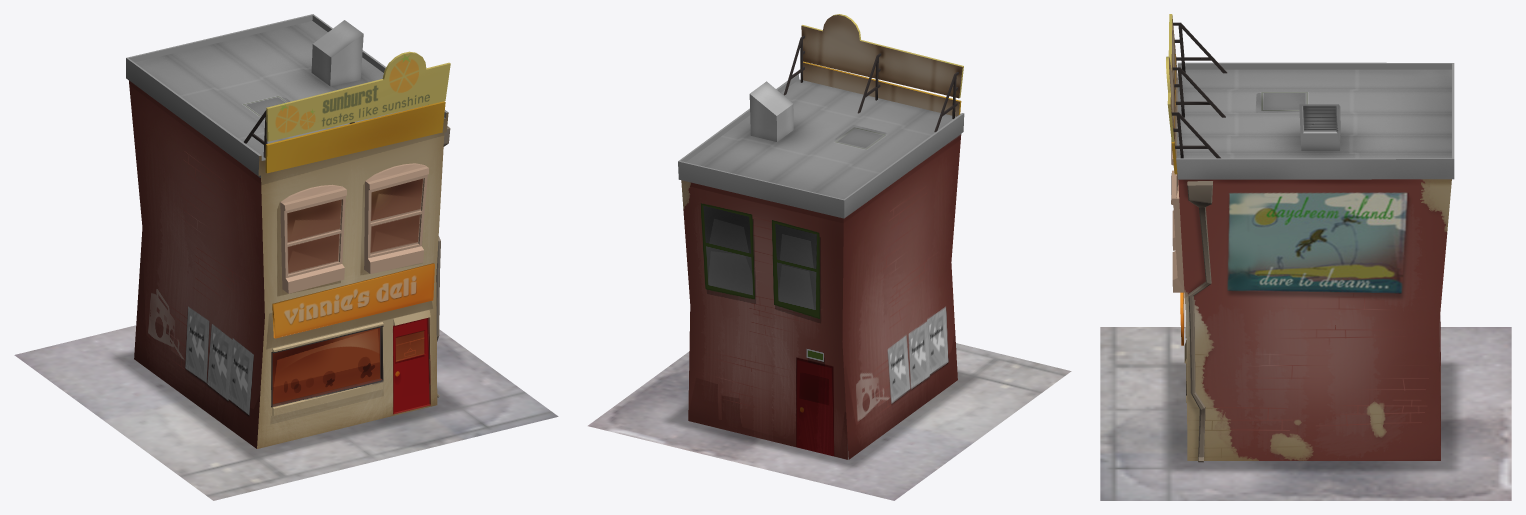
The model's file is Retail.fbx.
The picture shows the model from 3 angles, left to right: view 1: azimuth 30°, elevation 25°; view 2: azimuth 150°, elevation 25°; view 3: azimuth 270°, elevation 25°; orthographic projection. The views are drawn at different scales.
Parts seen in each view (by area): view 1: retail; view 2: retail; view 3: retail.
Part boxes in pixels (x1=…): retail: x1=14, y1=14, x2=558, y2=500; retail: x1=588, y1=14, x2=1071, y2=500; retail: x1=1100, y1=14, x2=1511, y2=500.
Size of the model in its own units: 10 by 10.22 by 10.
1 material, 1 textured.
